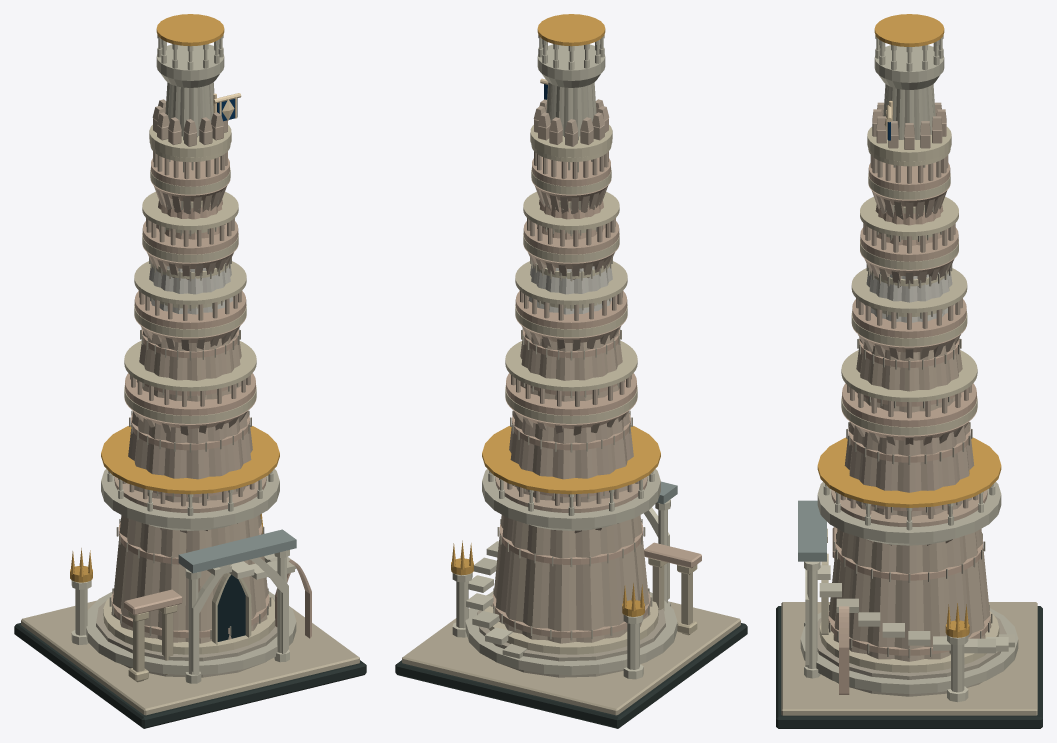
3 renders of one model, left to right at view 1: azimuth 30°, elevation 25°; view 2: azimuth 150°, elevation 25°; view 3: azimuth 270°, elevation 25°, orthographic. The views are drawn at different scales.
Visible parts, largest first — view 1: archer_tower_L6_0, archer_tower_L6_1; view 2: archer_tower_L6_0, archer_tower_L6_1; view 3: archer_tower_L6_0, archer_tower_L6_1.
Part boxes in pixels (x1,y1,x2,y2): archer_tower_L6_0: [14, 35, 366, 728]; archer_tower_L6_1: [70, 14, 279, 582]; archer_tower_L6_0: [395, 35, 747, 728]; archer_tower_L6_1: [451, 14, 660, 616]; archer_tower_L6_0: [776, 35, 1042, 728]; archer_tower_L6_1: [817, 14, 1001, 637].
Bounding box in the file's own units: 3.6 × 9.6 × 3.6.
